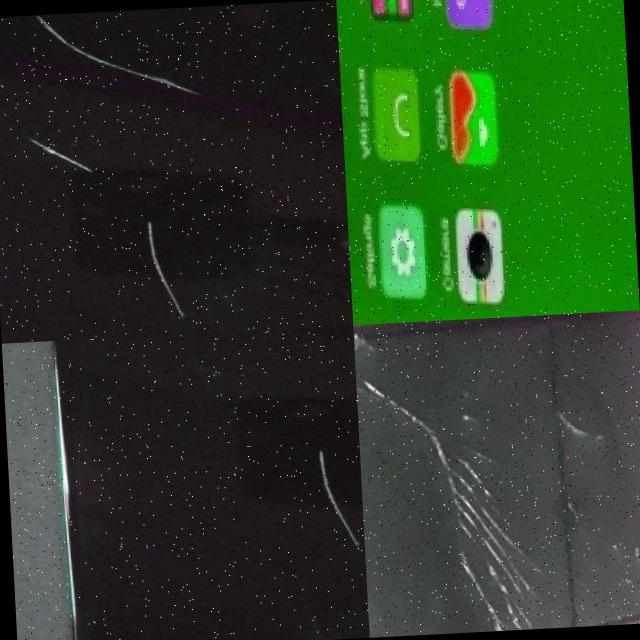scratch: (26, 6, 203, 105), (282, 422, 364, 561), (124, 206, 213, 320), (16, 118, 103, 176)
screen crack: (352, 315, 544, 638), (546, 380, 618, 472), (616, 529, 640, 625)
